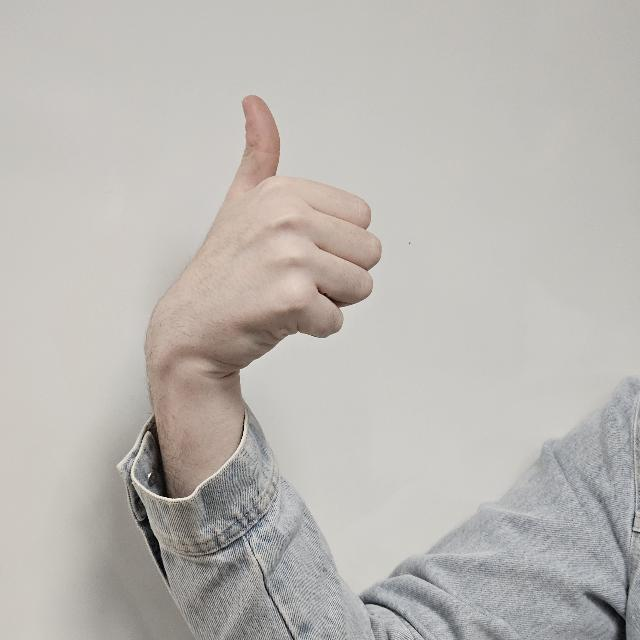Start: (198, 91, 378, 355)
